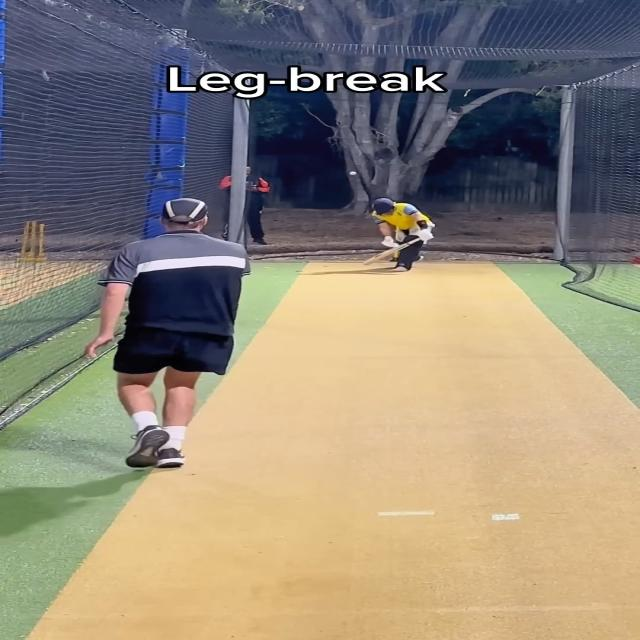Cricket ball: (349, 171, 357, 176)
